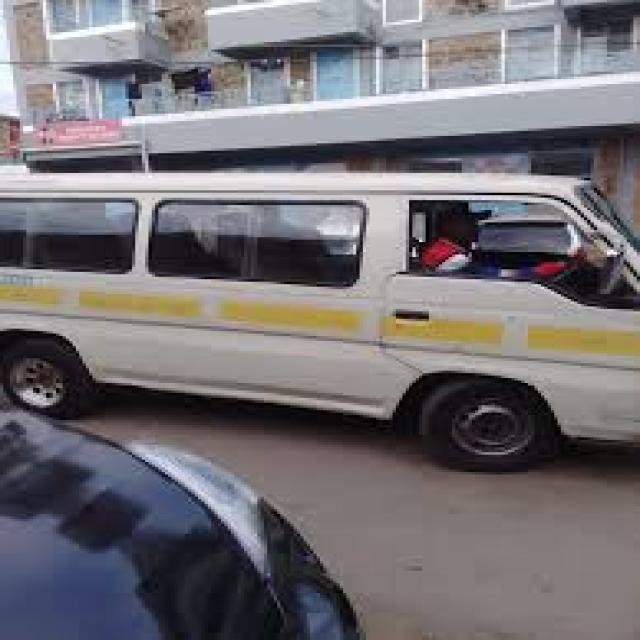matatu: (0, 96, 640, 494)
